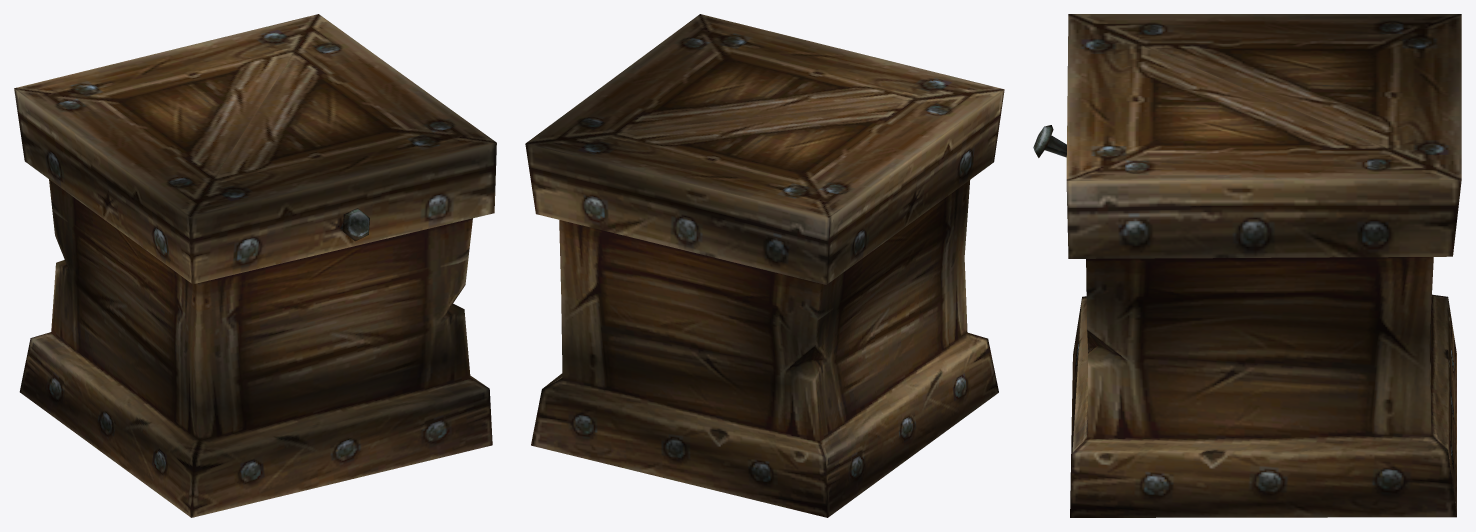
The model's file is 6hu_storehouse_crate2.obj.
The picture shows the model from 3 angles, left to right: view 1: azimuth 30°, elevation 25°; view 2: azimuth 150°, elevation 25°; view 3: azimuth 270°, elevation 25°; orthographic projection. The views are drawn at different scales.
Parts seen in each view (by area): view 1: 6HU_STOREHOUSE_CRATE20; view 2: 6HU_STOREHOUSE_CRATE20; view 3: 6HU_STOREHOUSE_CRATE20.
Boxes of the visible parts, x1,y1,x2,y2 form: 6HU_STOREHOUSE_CRATE20: (14,14,496,517); 6HU_STOREHOUSE_CRATE20: (525,14,1004,517); 6HU_STOREHOUSE_CRATE20: (1033,14,1461,517).
Bounding box in the file's own units: 0.8352 × 0.7914 × 0.9054.
1 material, 1 textured.
